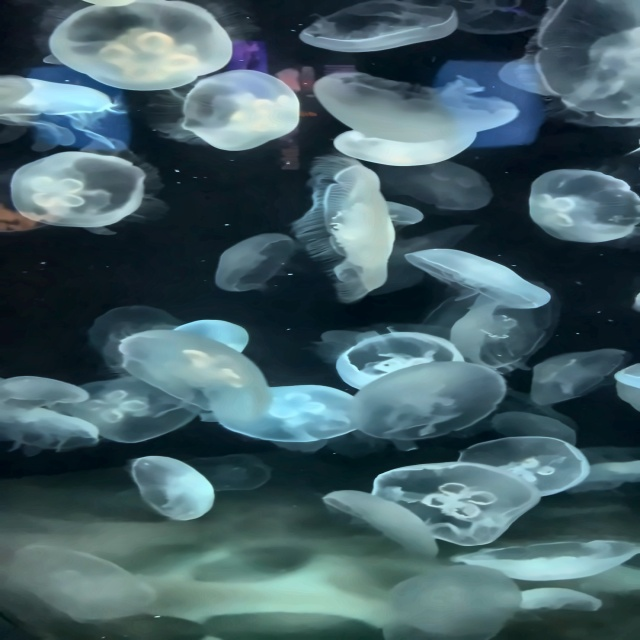jellyfish: (52, 2, 240, 90), (116, 327, 276, 421), (319, 70, 525, 143), (373, 464, 536, 546), (8, 146, 151, 233), (537, 4, 639, 125), (349, 361, 504, 438), (309, 163, 396, 300), (18, 543, 161, 625), (57, 368, 202, 445), (411, 248, 543, 331), (177, 70, 302, 153), (224, 380, 370, 448), (319, 485, 449, 560), (389, 566, 517, 638), (523, 167, 639, 246), (302, 2, 458, 55), (457, 433, 588, 496), (460, 535, 633, 580), (127, 455, 222, 526), (3, 67, 118, 125), (525, 344, 624, 411), (373, 157, 492, 212), (335, 330, 456, 384), (0, 390, 107, 448), (212, 227, 297, 294), (329, 129, 476, 167), (0, 371, 88, 409), (508, 589, 606, 615), (195, 464, 274, 494), (373, 200, 424, 225), (621, 361, 639, 405)
